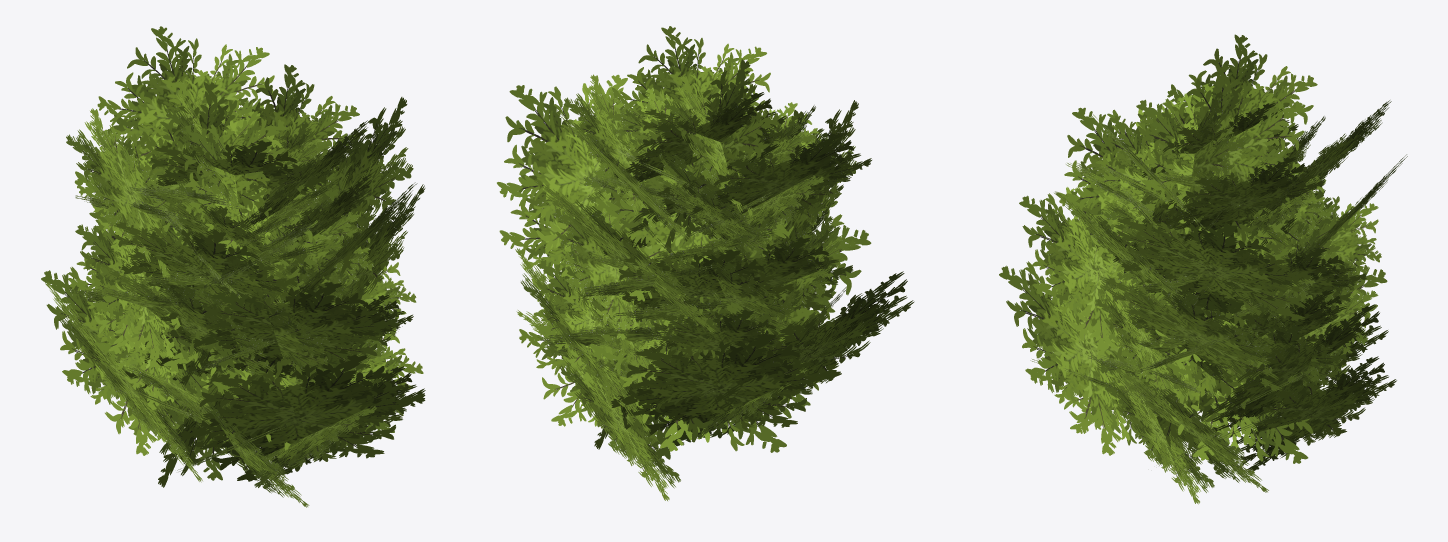
The model's file is bushtest2.fbx.
3 views of the same model, side by side, from view 1: azimuth 30°, elevation 25°; view 2: azimuth 150°, elevation 25°; view 3: azimuth 270°, elevation 25° (orthographic). The views are drawn at different scales.
Visible parts, largest first — view 1: bushtest.003; view 2: bushtest.003; view 3: bushtest.003.
Boxes of the visible parts, left/top/right/bottom form: bushtest.003: left=41, top=26, right=425, bottom=507; bushtest.003: left=497, top=26, right=914, bottom=500; bushtest.003: left=999, top=34, right=1407, bottom=504.
Bounding box in the file's own units: 352 × 337 × 354.
